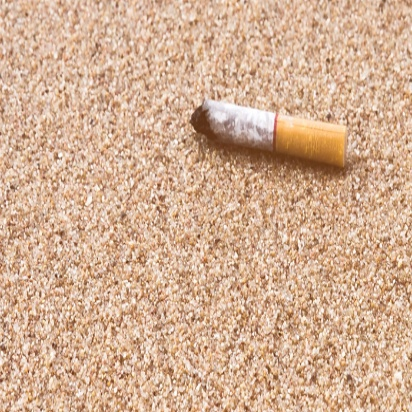cigarette: (179, 94, 361, 176)
